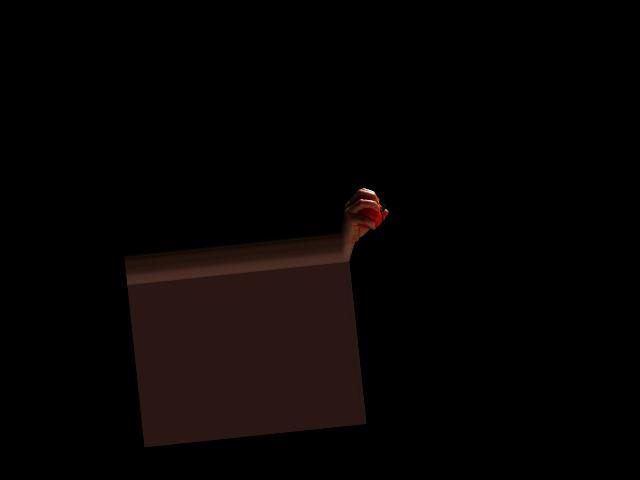tomato: (355, 203, 383, 230)
